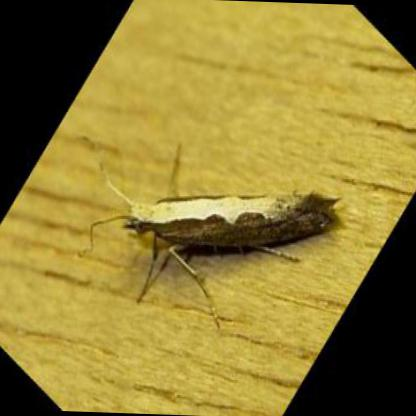plutella: (83, 132, 348, 338)
